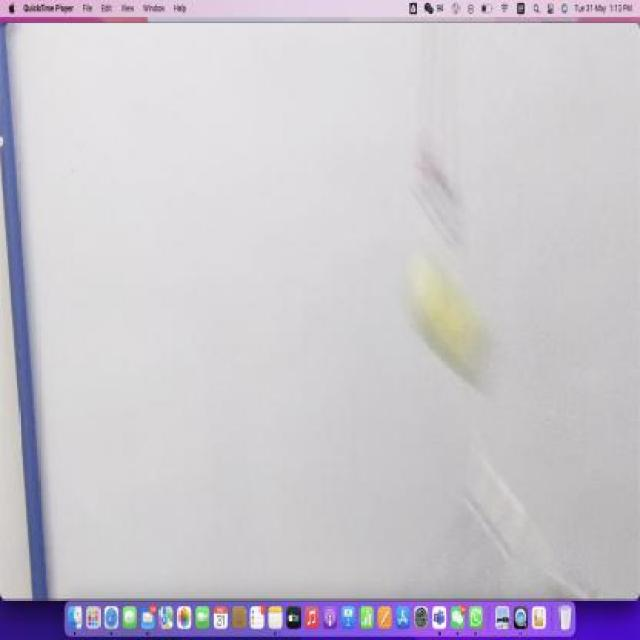baseball: (443, 252, 459, 398)
